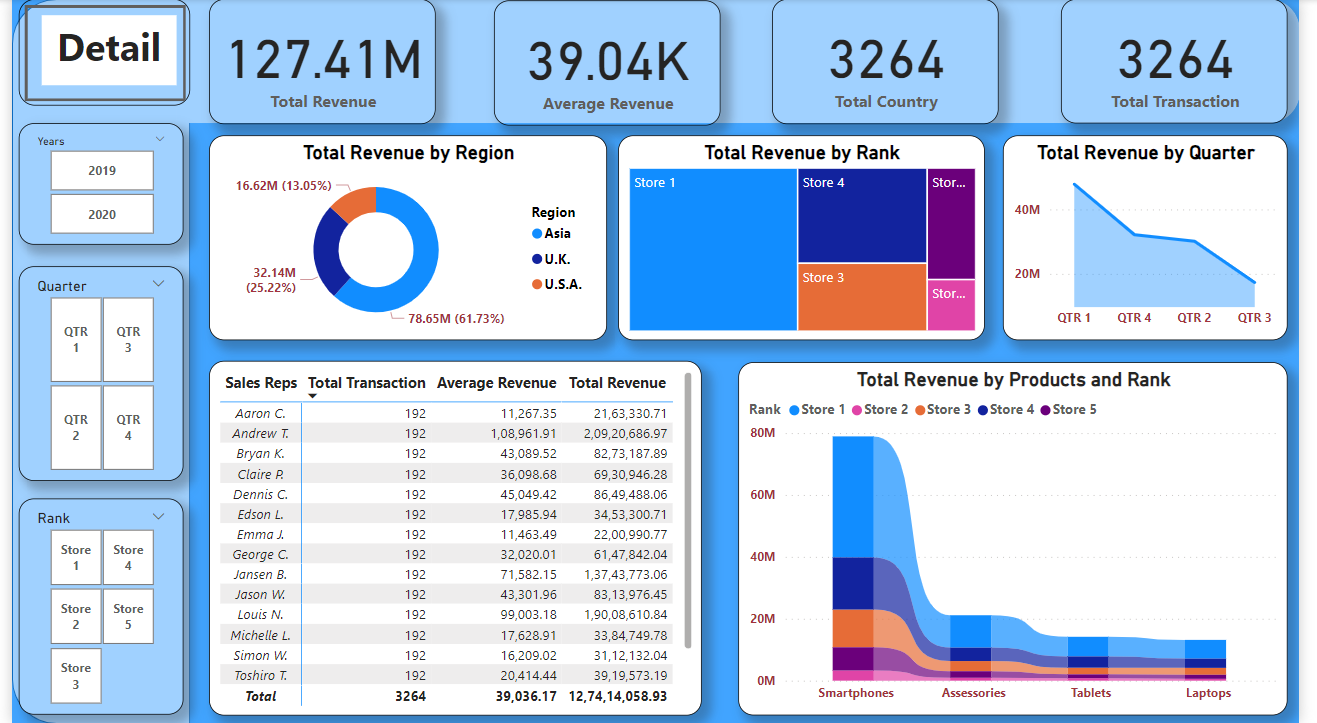

Layout of this report page (visuals, bound fields, positions):
{"tool":"powerbi","page":{"name":"Finance","canvas":[1280,720],"ordinal":0},"visuals":[{"type":"shape","box":[0,0,177.1,720.6],"z":0},{"type":"shape","box":[163.7,0,1116.4,123.4],"z":1000},{"type":"card","fields":{"Values":["Measures (2).Total Revenue"]},"box":[195.3,0,225.1,124.1],"z":2000},{"type":"card","fields":{"Values":["Measures (2).Average Revenue"]},"box":[478.4,1.7,225.1,124.1],"z":3000},{"type":"card","fields":{"Values":["Measures (2).Total Country"]},"box":[754.8,0,225.1,124.1],"z":4000},{"type":"card","fields":{"Values":["Measures (2).Total Transaction"]},"box":[1042.6,0,225.4,123.4],"z":5000},{"type":"donutChart","fields":{"Y":["Measures (2).Total Revenue"],"Category":["Sheet1.Region"]},"box":[195.3,135.7,395.6,203.6],"z":6000},{"type":"treemap","fields":{"Values":["Measures (2).Total Revenue"],"Group":["Sheet1.Rank"]},"box":[602.5,135.7,364.2,203.6],"z":7000},{"type":"areaChart","fields":{"Category":["Sheet1.Quarter"],"Y":["Measures (2).Total Revenue"]},"box":[984.9,135.7,283.1,203.6],"z":8000},{"type":"ribbonChart","fields":{"Category":["Sheet1.Products"],"Y":["Measures (2).Total Revenue"],"Series":["Sheet1.Rank"]},"box":[721.7,360.9,546.3,350.9],"z":9000},{"type":"pivotTable","fields":{"Rows":["Sheet1.Sales Reps"],"Values":["Measures (2).Total Transaction","Measures (2).Average Revenue","Measures (2).Total Revenue"]},"box":[195.3,359.2,490,352.6],"z":10000},{"type":"slicer","fields":{"Values":["Sheet1.Years"]},"box":[6.7,123.4,163.7,120.8],"z":11000},{"type":"slicer","fields":{"Values":["Sheet1.Quarter"]},"box":[6.7,265.7,163.7,213.4],"z":12000},{"type":"slicer","fields":{"Values":["Sheet1.Rank"]},"box":[6.7,496.5,163.7,214.7],"z":13000},{"type":"actionButton","box":[6.6,0,170.5,105.9],"z":14000},{"type":"textbox","box":[29.8,16.6,134.1,69.5],"z":15000}]}

Visuals, with their boxes in screenshot pixels (x1, y1, x2, y2), scaled from the page's 1280x720 canvas onto the 1317x723 screenshot:
shape: bbox(0, 0, 182, 722)
shape: bbox(168, 0, 1316, 124)
card - Measures (2).Total Revenue: bbox(201, 0, 433, 125)
card - Measures (2).Average Revenue: bbox(492, 2, 724, 126)
card - Measures (2).Total Country: bbox(777, 0, 1008, 125)
card - Measures (2).Total Transaction: bbox(1073, 0, 1305, 124)
donutChart - Measures (2).Total Revenue x Sheet1.Region: bbox(201, 136, 608, 341)
treemap - Measures (2).Total Revenue x Sheet1.Rank: bbox(620, 136, 995, 341)
areaChart - Sheet1.Quarter x Measures (2).Total Revenue: bbox(1013, 136, 1305, 341)
ribbonChart - Sheet1.Products x Measures (2).Total Revenue: bbox(743, 362, 1305, 715)
pivotTable - Sheet1.Sales Reps x Measures (2).Total Transaction: bbox(201, 361, 705, 715)
slicer - Sheet1.Years: bbox(7, 124, 175, 245)
slicer - Sheet1.Quarter: bbox(7, 267, 175, 481)
slicer - Sheet1.Rank: bbox(7, 499, 175, 714)
actionButton: bbox(7, 0, 182, 106)
textbox: bbox(31, 17, 169, 86)
